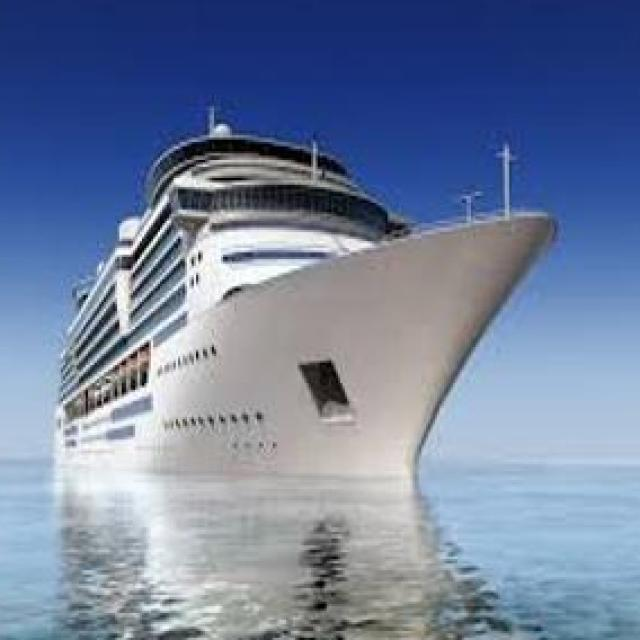passenger ship: (47, 112, 542, 478)
